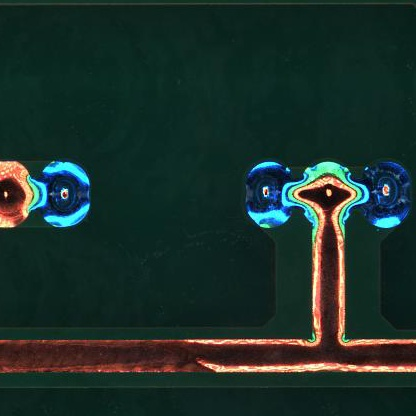spot: (34, 160, 92, 230), (244, 160, 296, 231), (360, 161, 413, 229)
